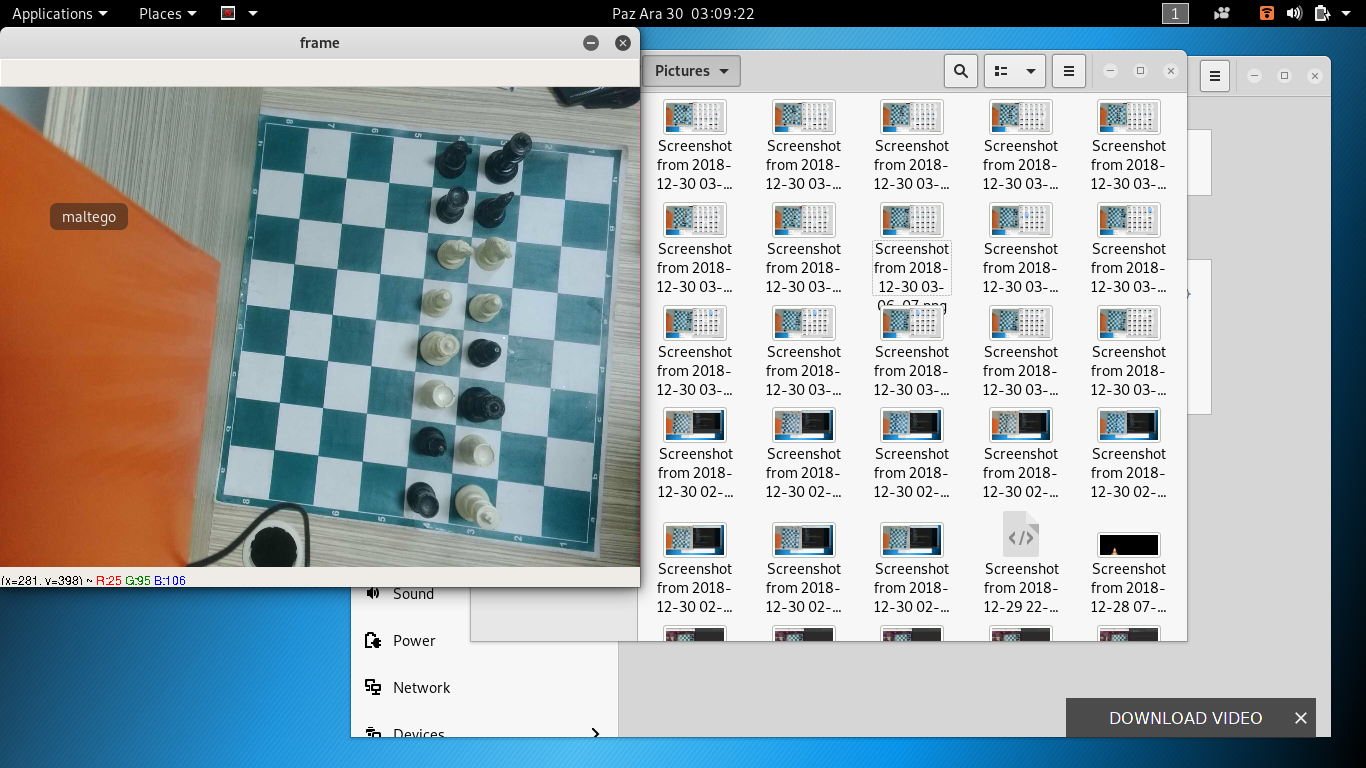BeyazFil: (466, 292, 503, 322), (423, 289, 453, 318)
BeyazKale: (458, 433, 496, 469), (421, 379, 457, 412)
BeyazVezir: (419, 330, 460, 365)
SiyahAt: (435, 141, 473, 177), (477, 190, 514, 226), (477, 236, 515, 270), (436, 237, 475, 270)
SiyahFil: (468, 338, 501, 367), (416, 428, 448, 456)
SiyahKale: (406, 480, 441, 519), (436, 185, 469, 224)
SiyahSah: (483, 132, 535, 184), (452, 482, 503, 529)
SiyahVezir: (459, 386, 507, 423)
